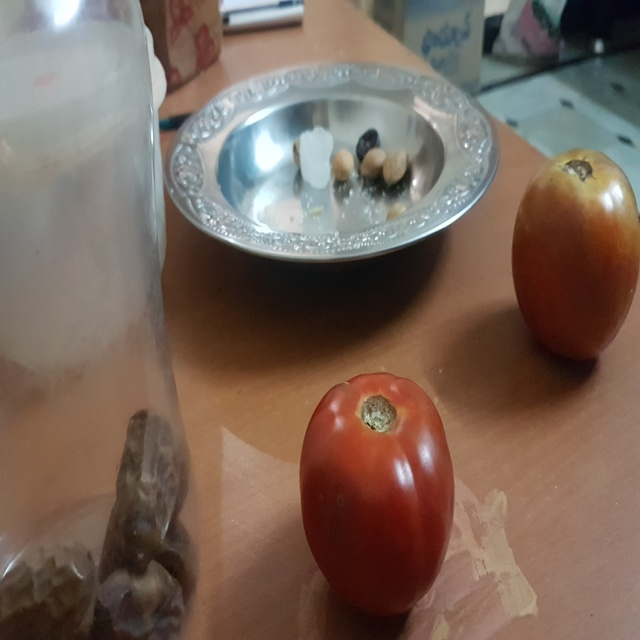tomato: (296, 371, 468, 617), (510, 151, 640, 366)
